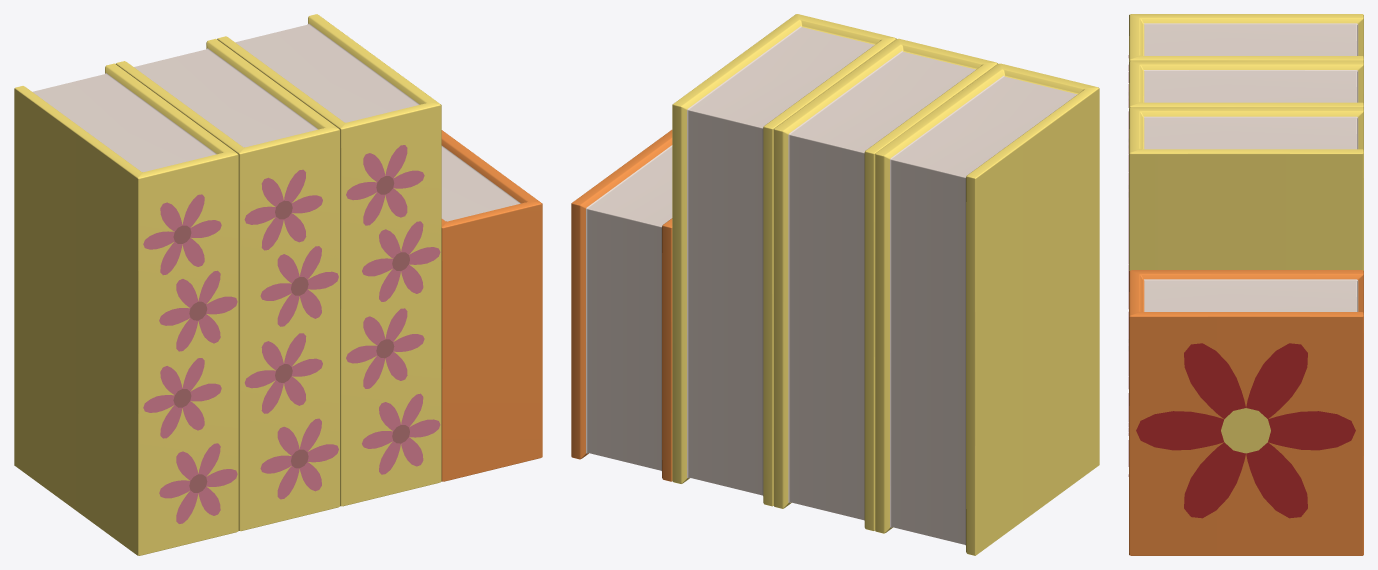
File: Book_5.glb
3 views of the same model, side by side, from view 1: azimuth 30°, elevation 25°; view 2: azimuth 150°, elevation 25°; view 3: azimuth 270°, elevation 25° (orthographic). The views are drawn at different scales.
Parts seen in each view (by area): view 1: Books_15; view 2: Books_15; view 3: Books_15.
Boxes of the visible parts, <box> form: Books_15: <box>14,14,542,555</box>; Books_15: <box>571,14,1099,555</box>; Books_15: <box>1128,14,1363,555</box>.
Bounding box in the file's own units: 0.4082 × 0.3637 × 0.218.
Materials: 1 (1 with a texture image).
